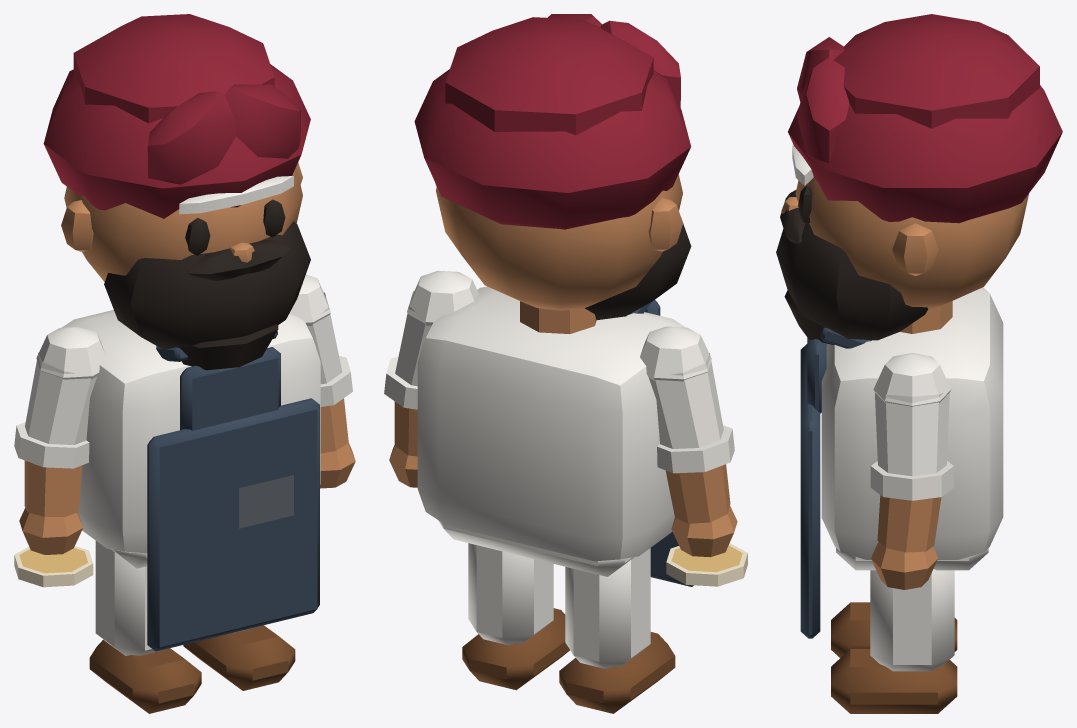
File: balwant.glb
3 views of the same model, side by side, from view 1: azimuth 30°, elevation 25°; view 2: azimuth 150°, elevation 25°; view 3: azimuth 270°, elevation 25° (orthographic). The views are drawn at different scales.
Visible parts, largest first — view 1: head, body, arm_r, leg_r, arm_l, leg_l; view 2: head, body, arm_r, leg_r, leg_l, arm_l; view 3: head, body, arm_l, leg_l, leg_r.
Boxes of the visible parts, left/top/right/bottom form: head: left=43, top=14, right=310, bottom=370; body: left=62, top=310, right=320, bottom=651; arm_r: left=14, top=326, right=105, bottom=587; leg_r: left=89, top=541, right=201, bottom=713; arm_l: left=289, top=274, right=355, bottom=488; leg_l: left=183, top=625, right=295, bottom=690; head: left=414, top=14, right=691, bottom=320; body: left=417, top=286, right=693, bottom=586; arm_r: left=640, top=326, right=747, bottom=586; leg_r: left=559, top=548, right=675, bottom=713; leg_l: left=462, top=543, right=569, bottom=690; arm_l: left=384, top=270, right=478, bottom=487; head: left=776, top=14, right=1062, bottom=344; body: left=800, top=287, right=1003, bottom=638; arm_l: left=870, top=353, right=953, bottom=589; leg_l: left=831, top=569, right=957, bottom=713; leg_r: left=831, top=602, right=957, bottom=657.
Bounding box in the file's own units: 0.6472 × 1.17 × 0.4685.
1 material, 1 textured.
